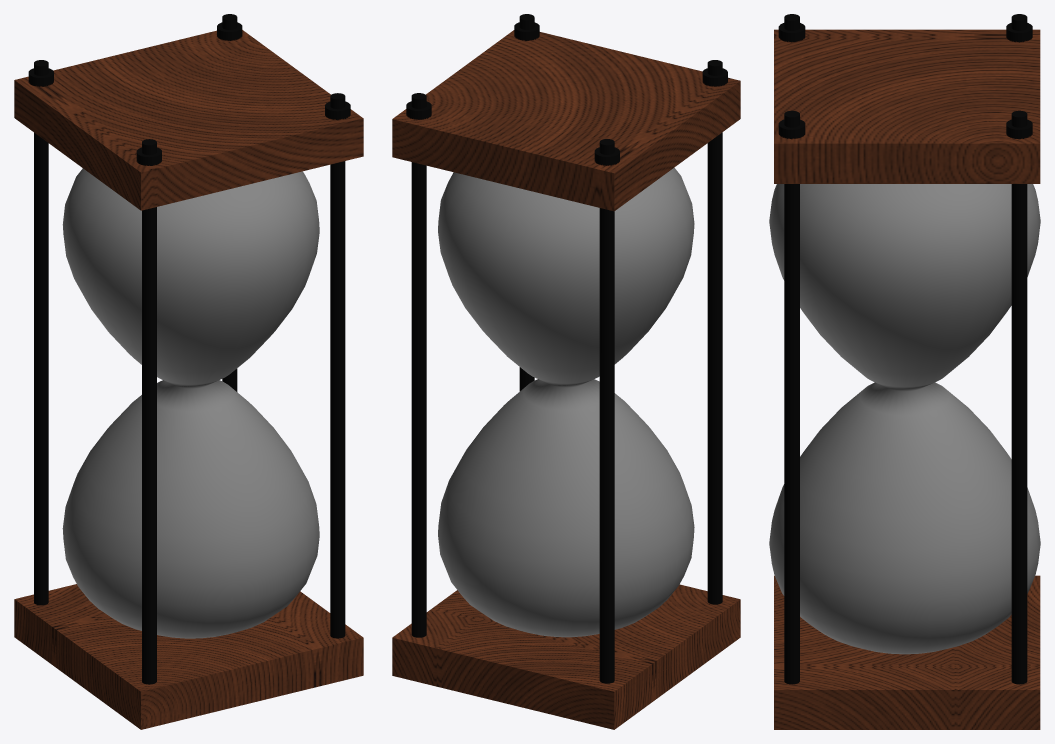
The model's file is Hourglass.fbx.
3 renders of one model, left to right at view 1: azimuth 30°, elevation 25°; view 2: azimuth 150°, elevation 25°; view 3: azimuth 270°, elevation 25°, orthographic. The views are drawn at different scales.
Parts seen in each view (by area): view 1: Hourglass; view 2: Hourglass; view 3: Hourglass.
Part boxes in pixels (x1=…): Hourglass: x1=14, y1=14, x2=363, y2=729; Hourglass: x1=392, y1=14, x2=740, y2=729; Hourglass: x1=769, y1=14, x2=1040, y2=729.
Size of the model in its own units: 9.26 by 22.77 by 9.23.
